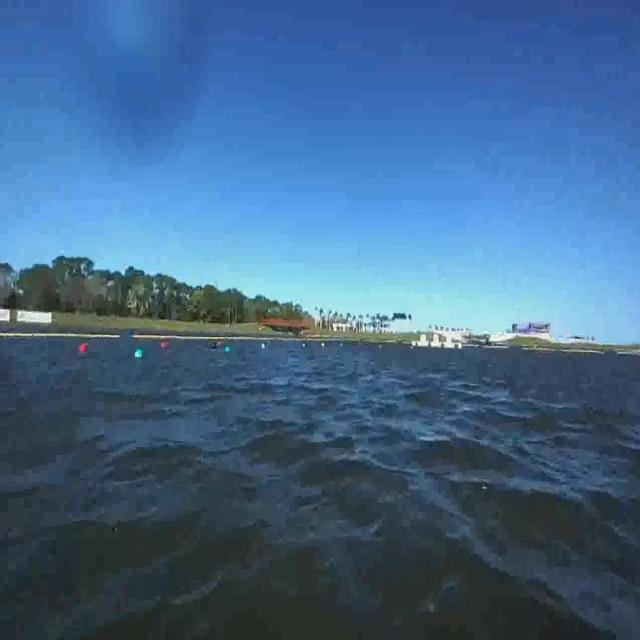green-buoy: (133, 344, 144, 362)
red-buoy: (78, 344, 87, 355)
